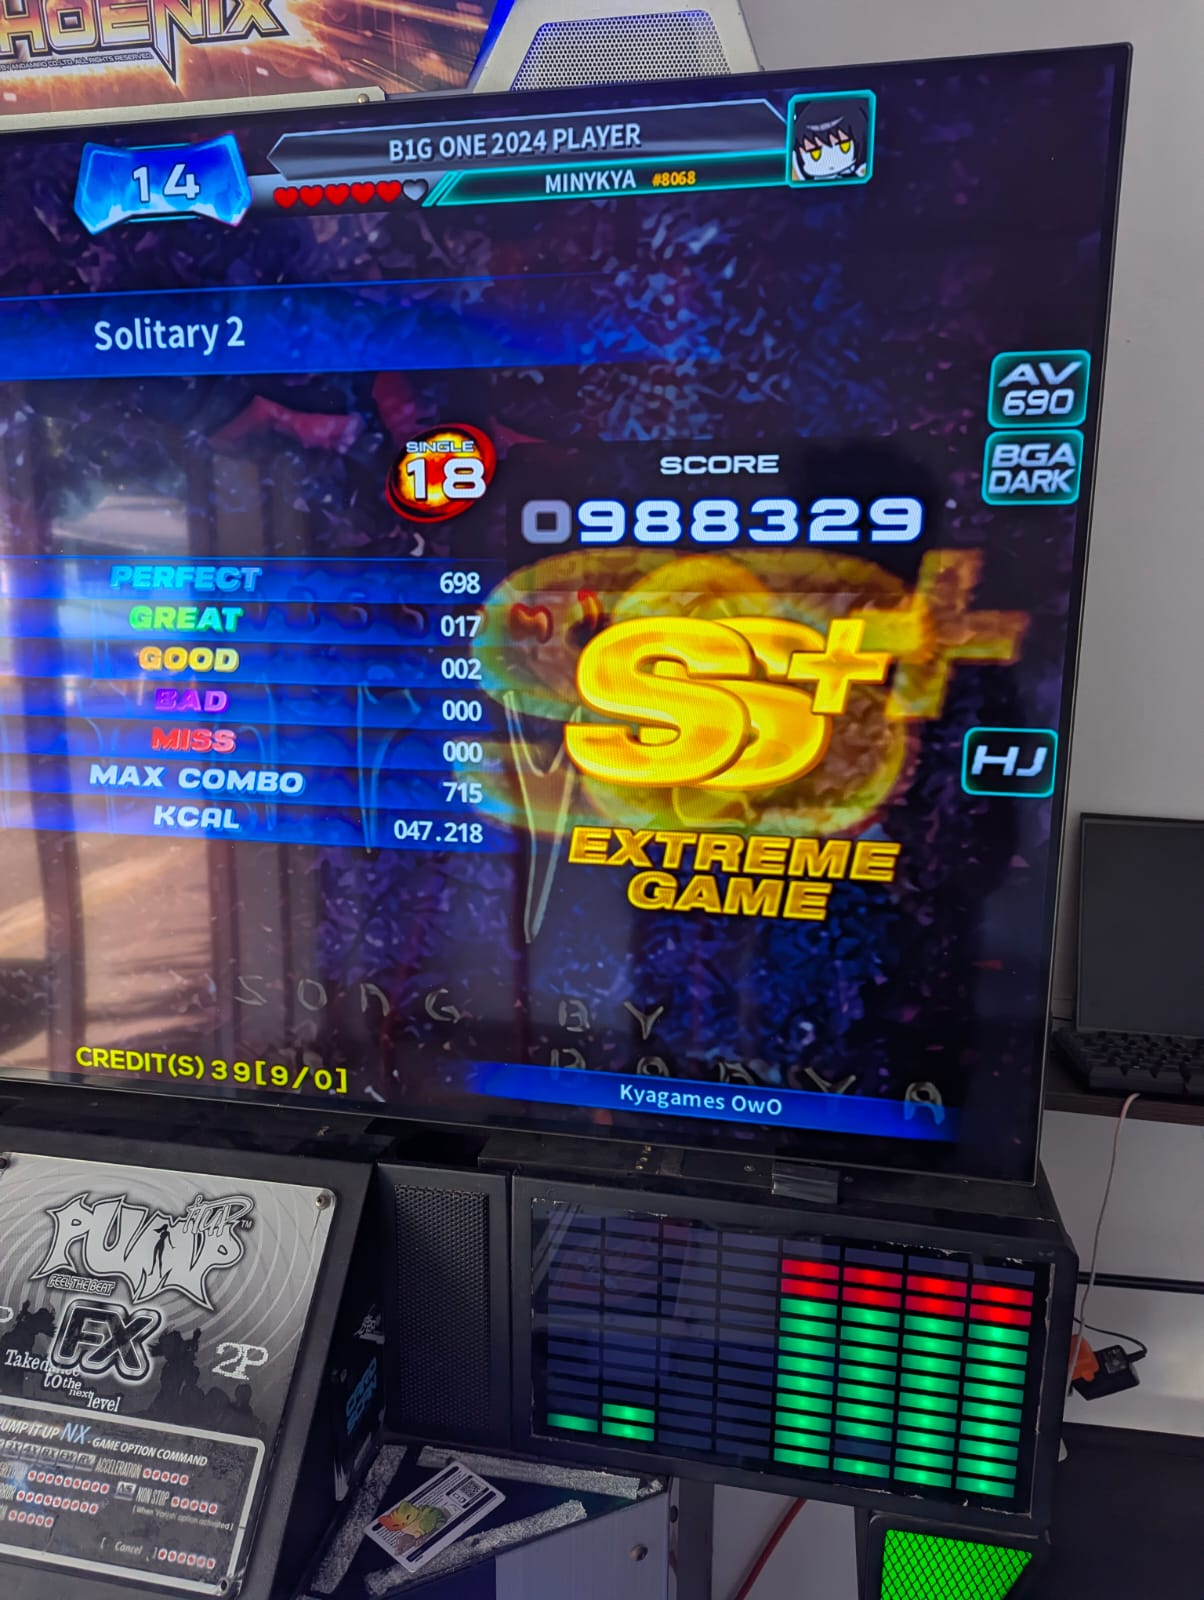difficulty: (376, 411, 501, 538)
fullscore: (0, 0, 1171, 1229)
rank: (567, 591, 893, 826)
score: (520, 445, 949, 574)
song_name: (0, 259, 569, 409)
